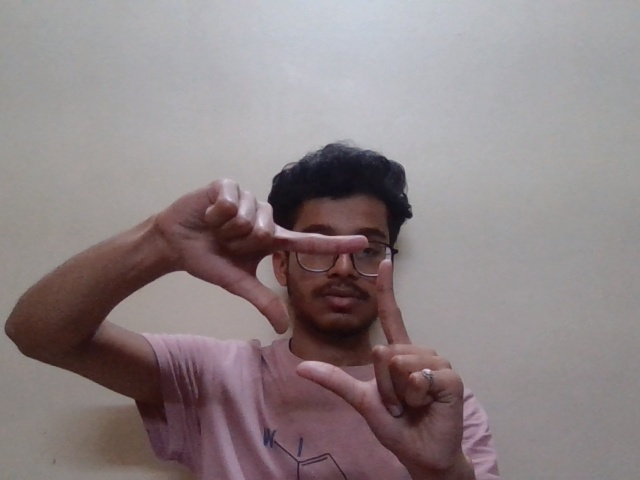video: (186, 162, 474, 455)
